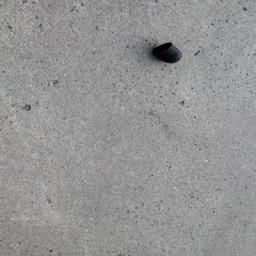FOD: (149, 39, 191, 71)
